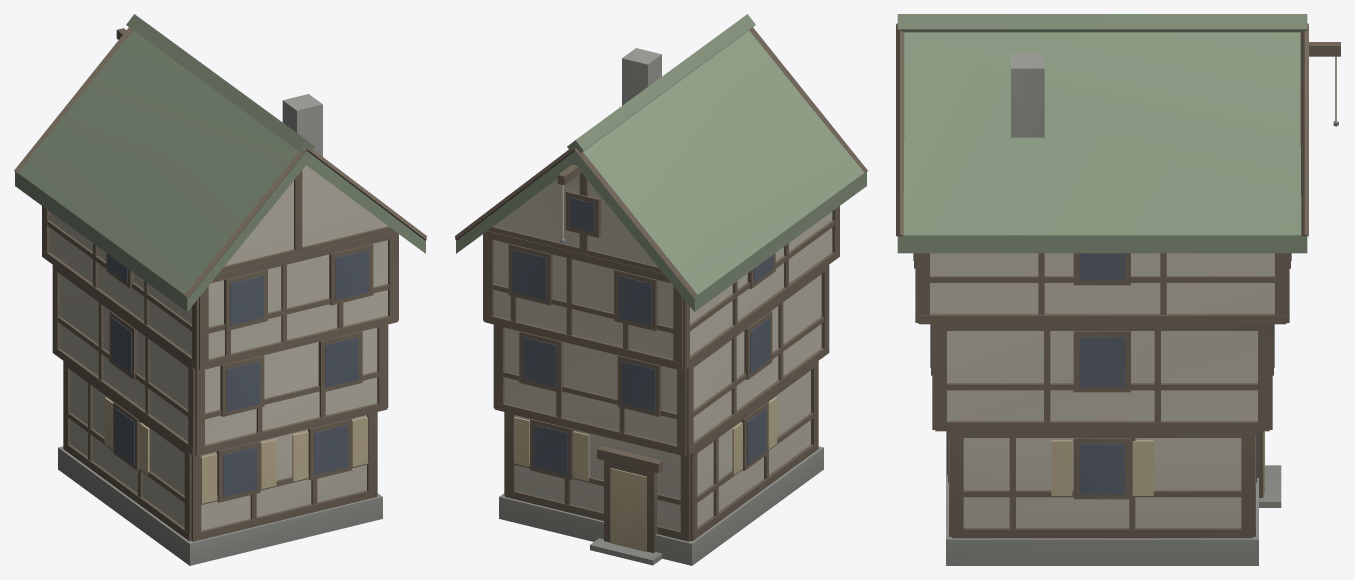
The model's file is townhouse_green.gltf.
3 views of the same model, side by side, from view 1: azimuth 30°, elevation 25°; view 2: azimuth 150°, elevation 25°; view 3: azimuth 270°, elevation 25° (orthographic). The views are drawn at different scales.
Visible parts, largest first — view 1: Body; view 2: Body; view 3: Body.
Boxes of the visible parts, x1,y1,x2,y2 form: Body: [14, 14, 426, 565]; Body: [455, 14, 867, 565]; Body: [896, 14, 1340, 565].
Size of the model in its own units: 6.92 by 11.36 by 9.24.
